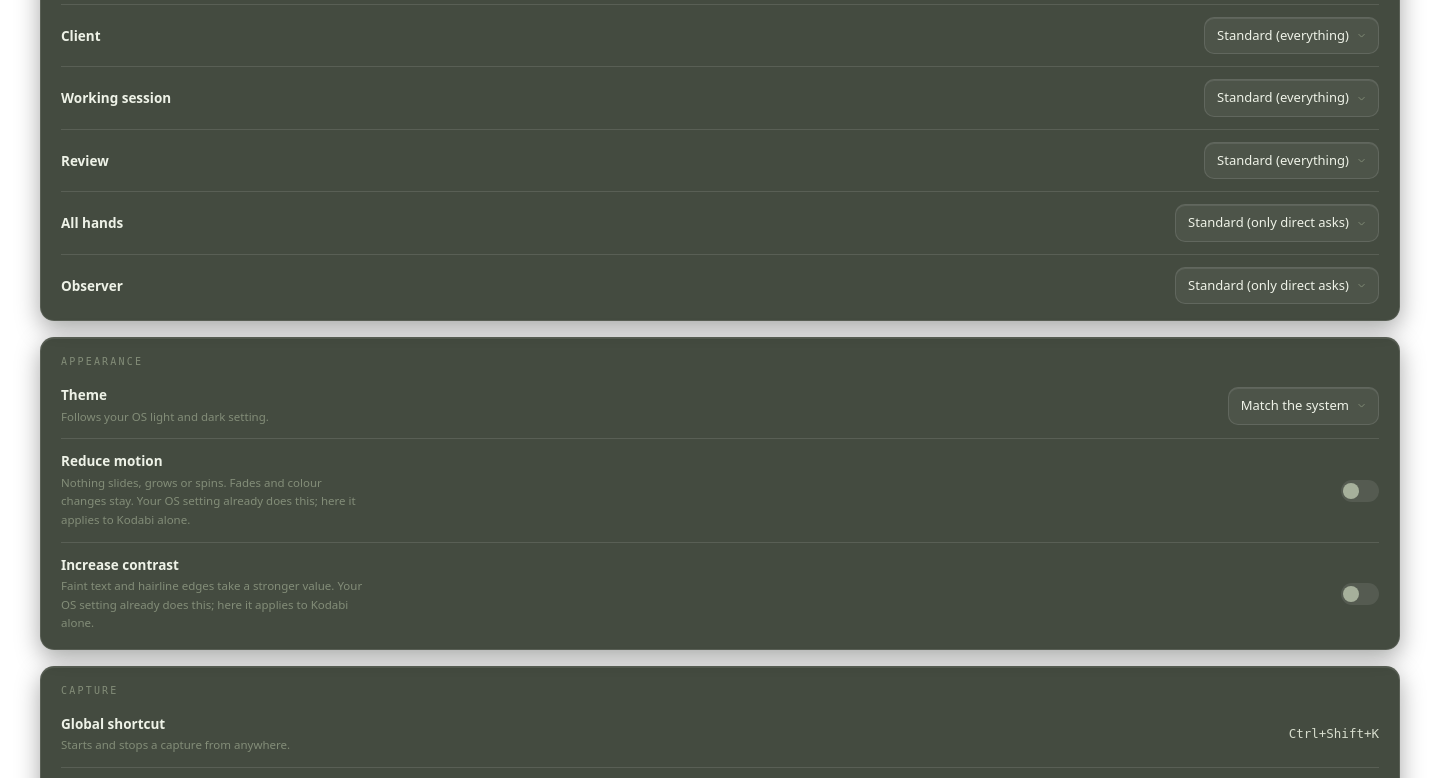
Test: SettingsView appearance › persists a chosen theme and adopts the echoed result
The width and height of the screenshot is (1440, 778).
(page scrolled)
What coordinates should you click on to do the following:
click the dropdown named "Theme"
I would click on:
 (1303, 406)
Its box is [1228, 387, 1379, 425].
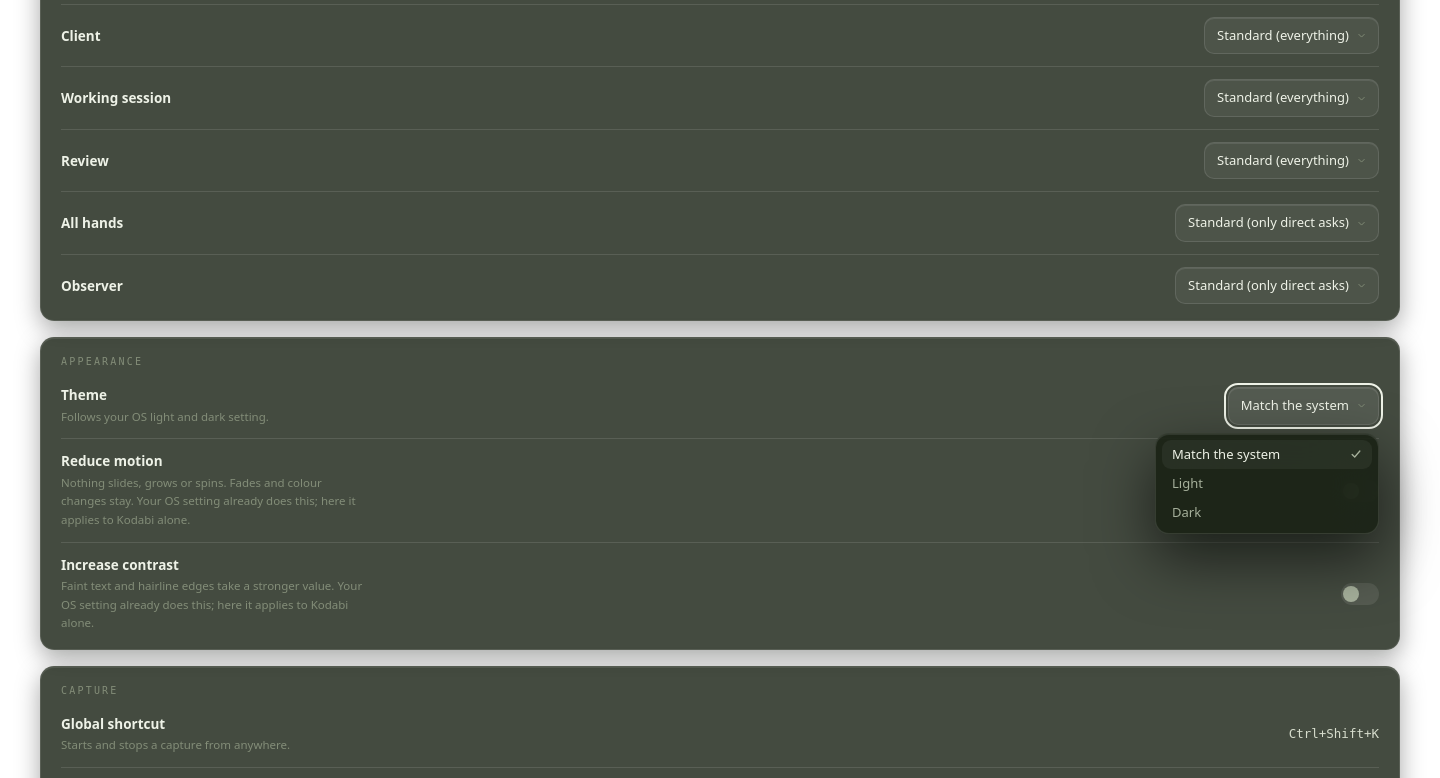
What coordinates should you click on to do the following:
click the option "Dark"
I would click on:
 (1187, 512)
Its box is [1172, 503, 1201, 521].
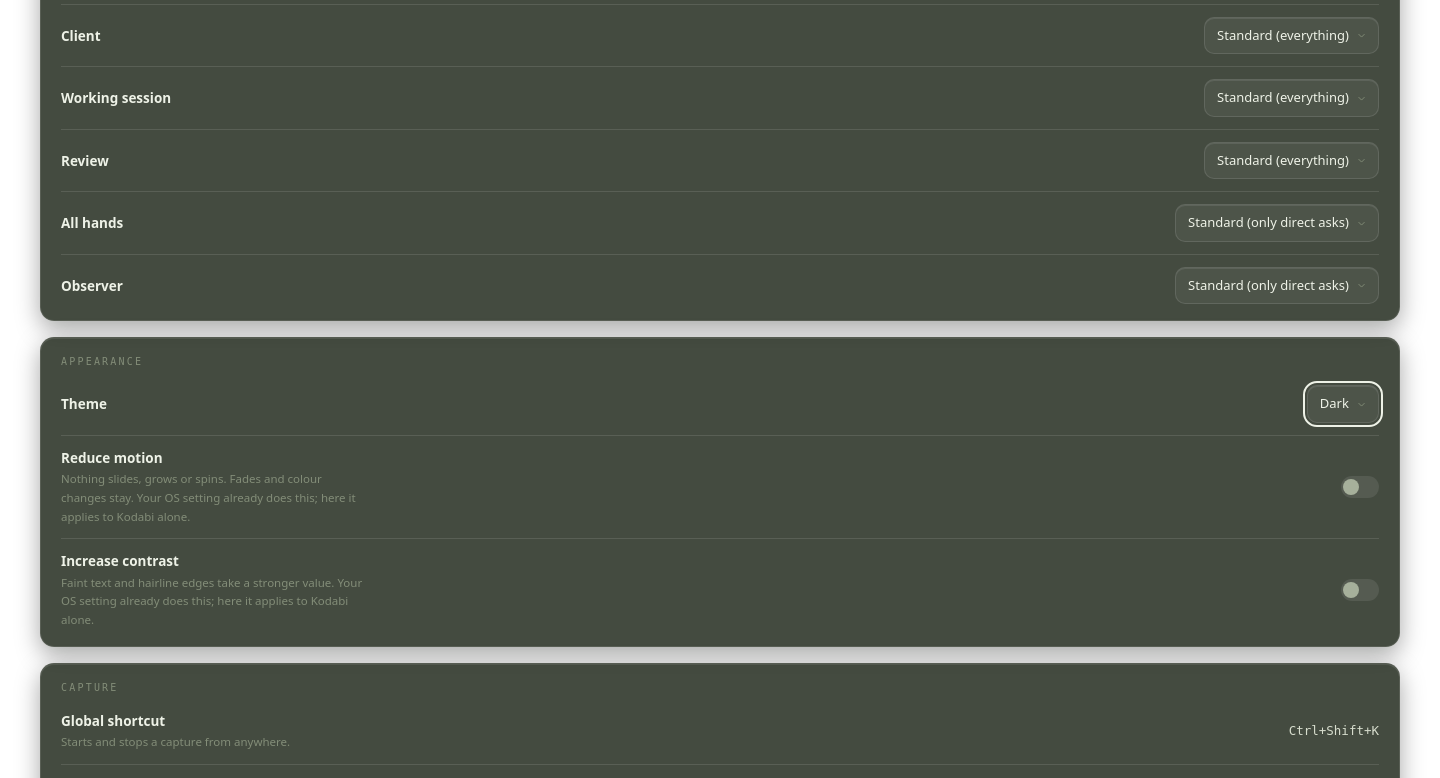
Now the dropdown named "Theme" reads "Dark", box [1307, 386, 1379, 423]
